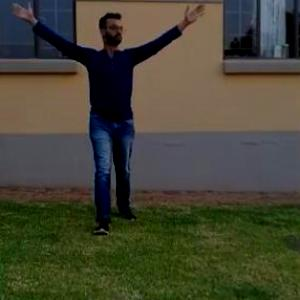takeoff: (0, 0, 223, 245)
